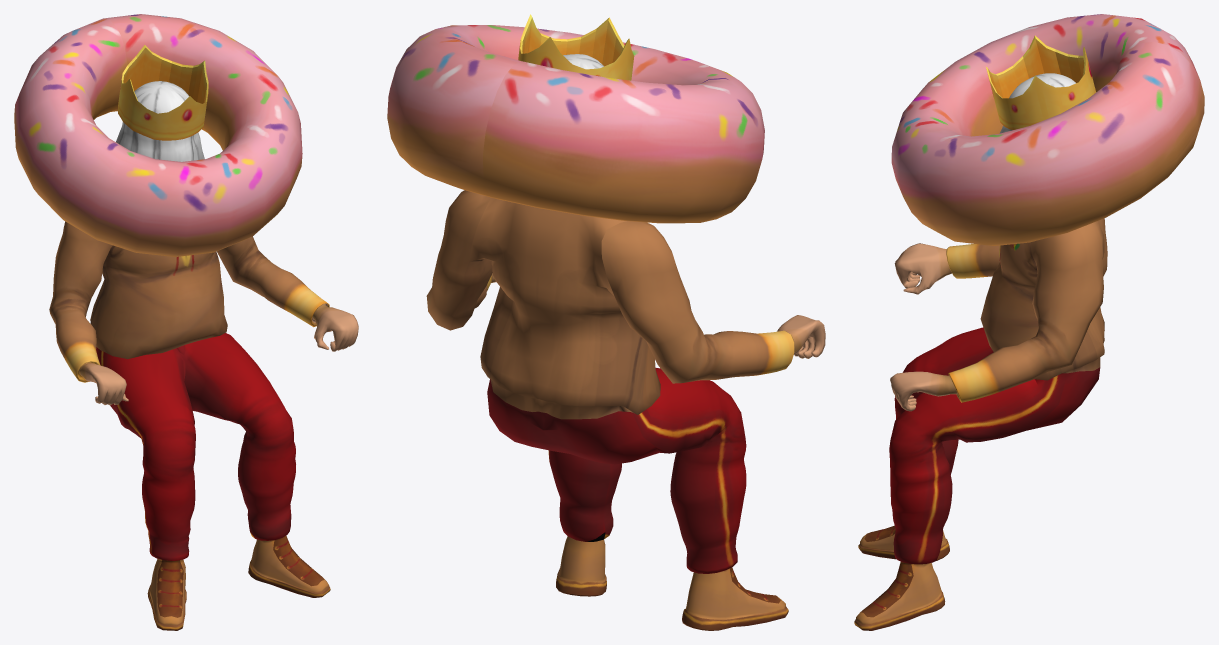
File: m_Boss_Textured.fbx
The picture shows the model from 3 angles, left to right: view 1: azimuth 30°, elevation 25°; view 2: azimuth 150°, elevation 25°; view 3: azimuth 270°, elevation 25°; orthographic projection. The views are drawn at different scales.
Parts seen in each view (by area): view 1: pSphere3; view 2: pSphere3; view 3: pSphere3.
Boxes of the visible parts, bbox=[...] form: pSphere3: bbox=[14, 14, 358, 630]; pSphere3: bbox=[387, 14, 825, 630]; pSphere3: bbox=[854, 14, 1204, 630].
Size of the model in its own units: 16.61 by 30.11 by 17.57.
